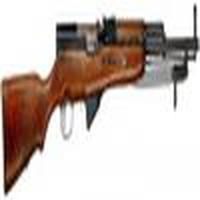gun: (8, 21, 200, 163)
